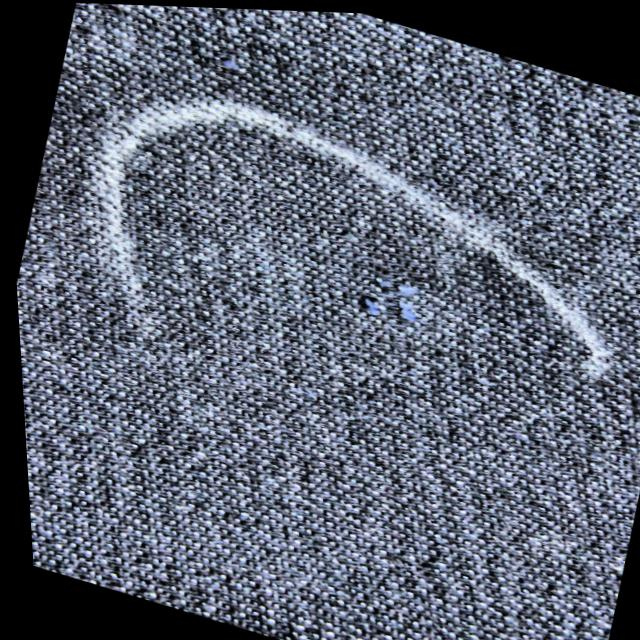Hole: (353, 277, 418, 318)
